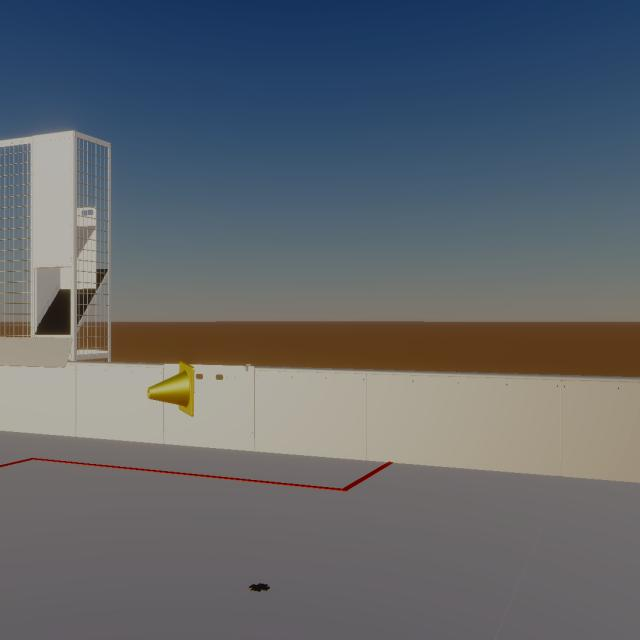frc_cone: (147, 361, 195, 416)
